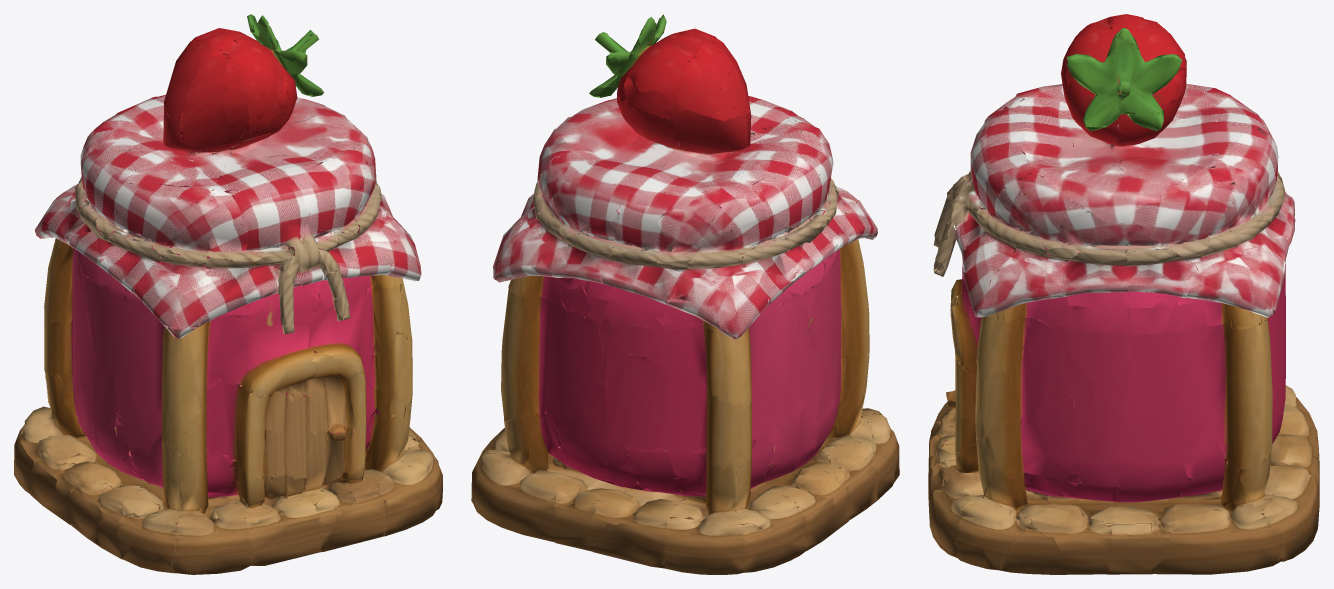
The model's file is jam-jar-apothecary.glb.
3 views of the same model, side by side, from view 1: azimuth 30°, elevation 25°; view 2: azimuth 150°, elevation 25°; view 3: azimuth 270°, elevation 25° (orthographic). The views are drawn at different scales.
Parts seen in each view (by area): view 1: Mesh_0; view 2: Mesh_0; view 3: Mesh_0.
Boxes of the visible parts, box(x1,y1,x2,y2) form: Mesh_0: box(14, 14, 442, 574); Mesh_0: box(471, 14, 899, 574); Mesh_0: box(928, 14, 1319, 574).
Bounding box in the file's own units: 1.39 × 1.9 × 1.4.
Materials: 1 (1 with a texture image).
